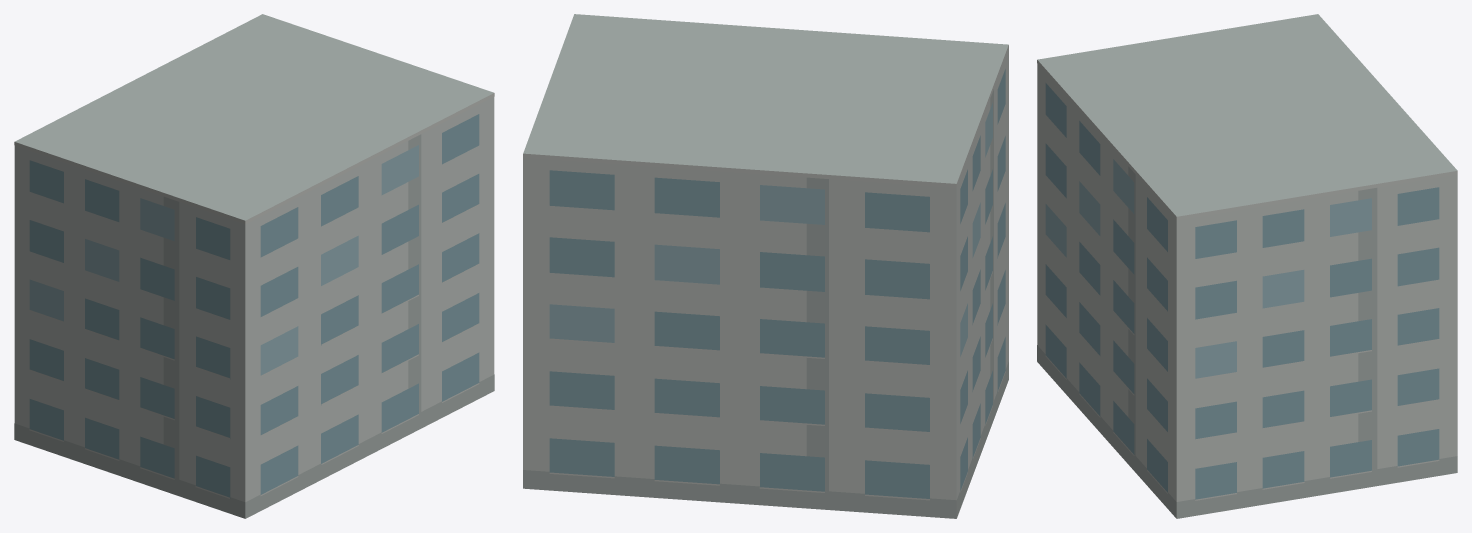
Rendered from survey-upis-32945495.glb.
3 renders of one model, left to right at view 1: azimuth 30°, elevation 25°; view 2: azimuth 150°, elevation 25°; view 3: azimuth 270°, elevation 25°, orthographic. The views are drawn at different scales.
Visible parts, largest first — view 1: survey-upis-32945495.tmp; view 2: survey-upis-32945495.tmp; view 3: survey-upis-32945495.tmp.
Part boxes in pixels (<box>): survey-upis-32945495.tmp: <box>14,14,494,518</box>; survey-upis-32945495.tmp: <box>523,14,1008,518</box>; survey-upis-32945495.tmp: <box>1037,14,1457,518</box>.
Size of the model in its own units: 28.22 by 19.6 by 24.73.
